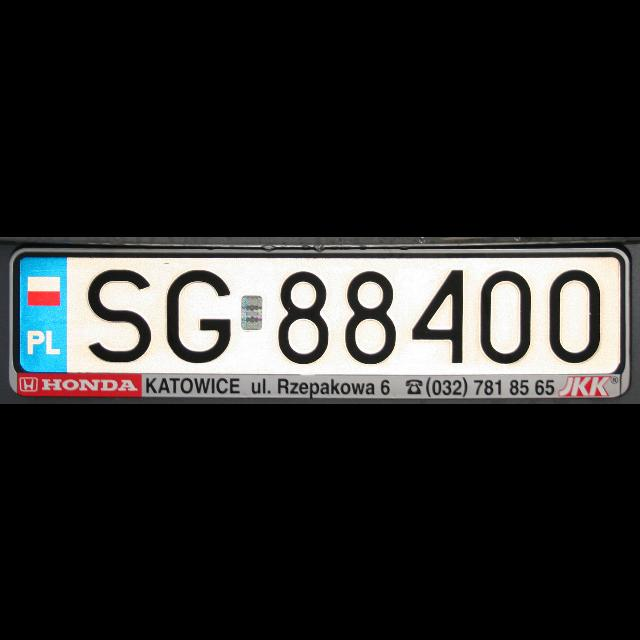pl_license_plate: (16, 252, 624, 374)
